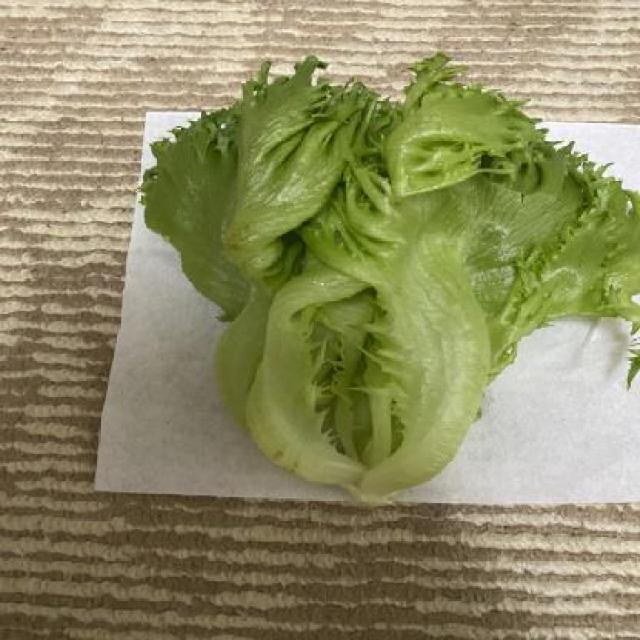Lettuce: (142, 48, 640, 501)
